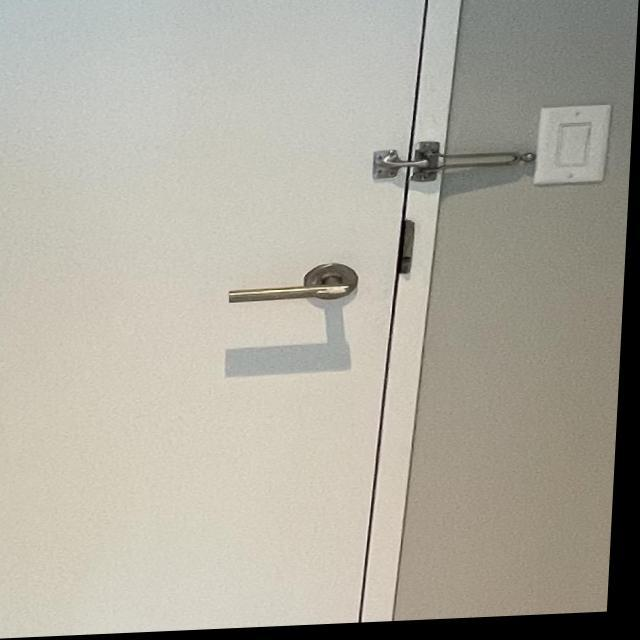door_handle: (222, 254, 371, 326)
